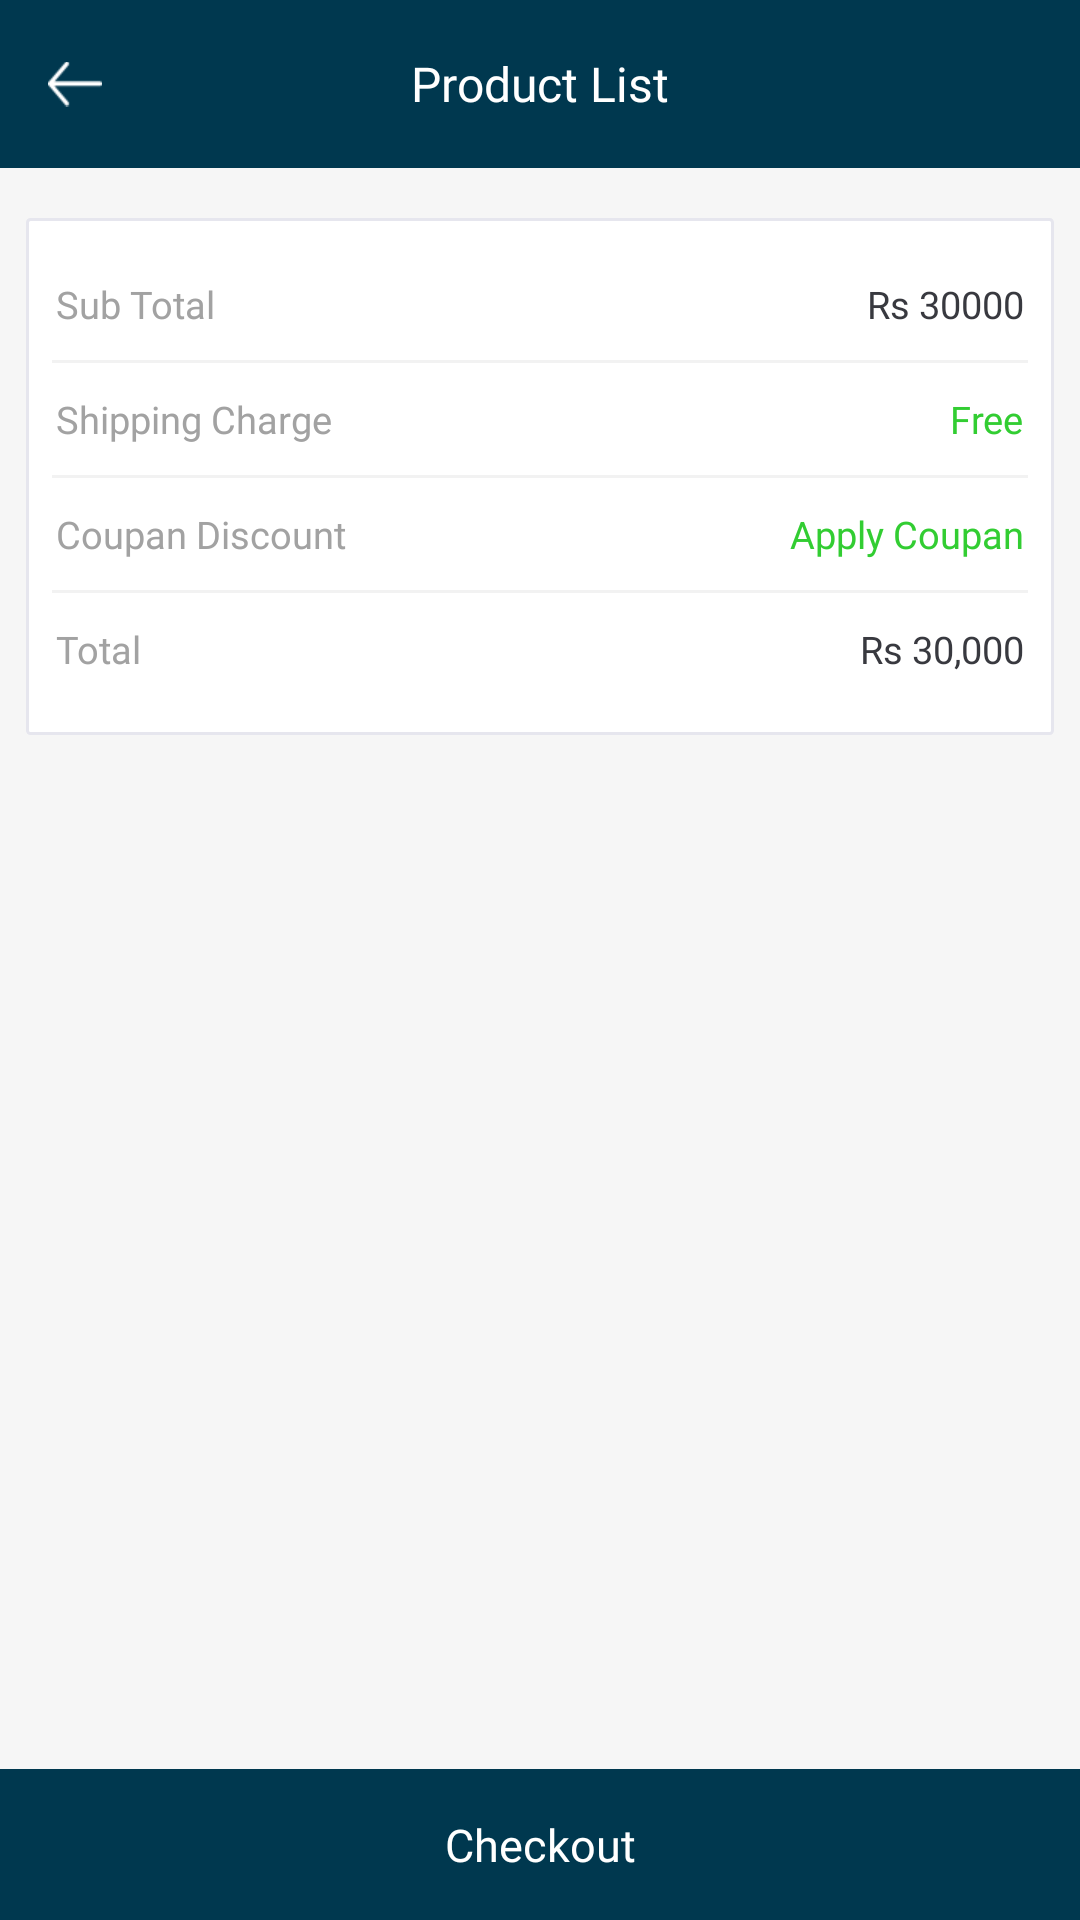

Where icons sit on this 1080 × 1920 app screen, as (x1,y1,x2,y2):
back: (48,62,102,107)
